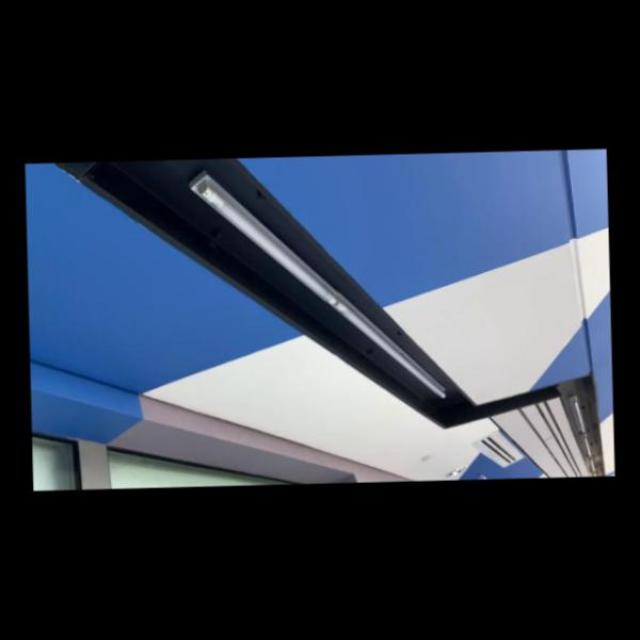Straight-Tube-Fluorescent-Lamp: (178, 163, 454, 419)
